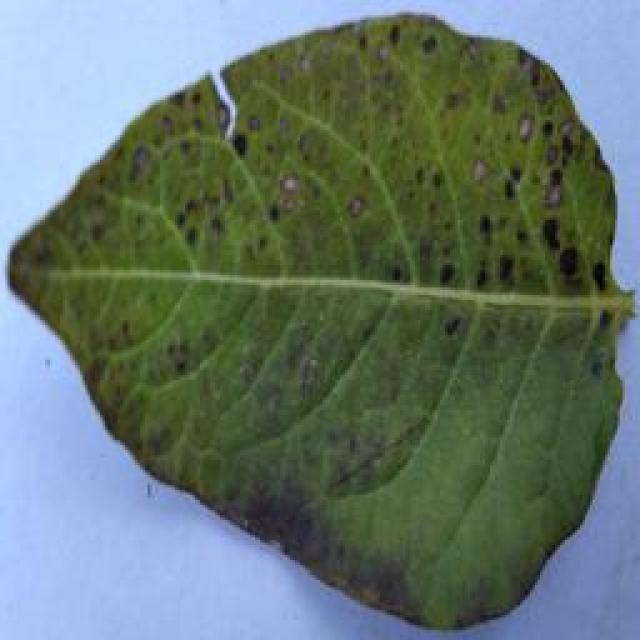Potato_Early_Blight: (13, 12, 630, 640)
